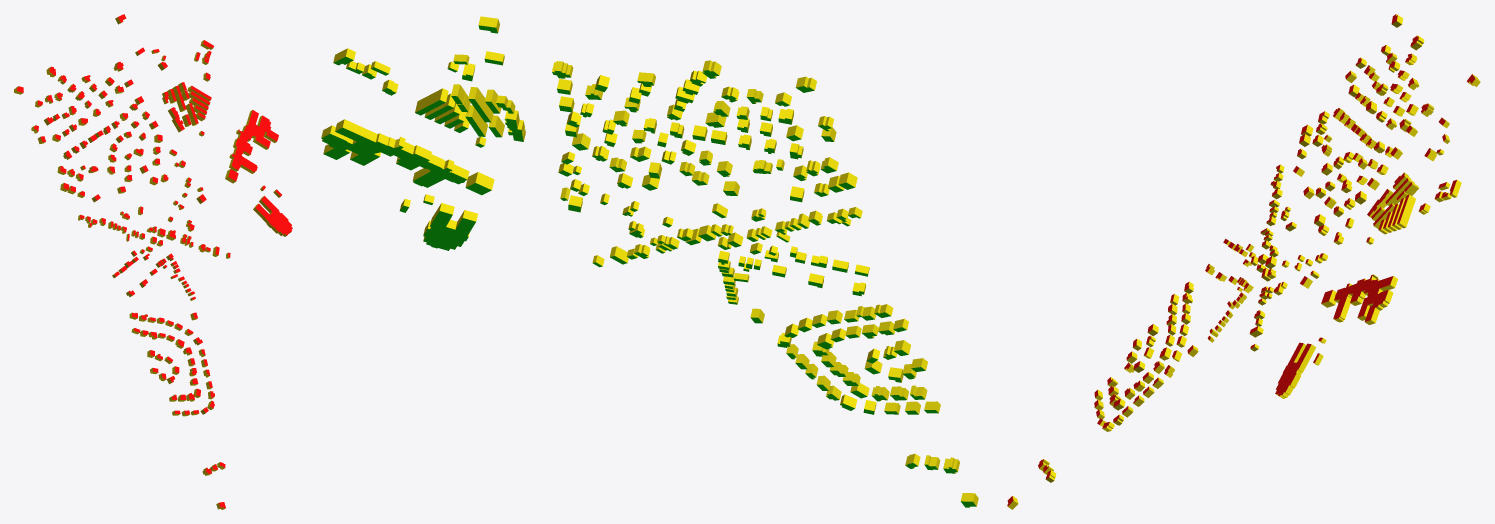
3 views of the same model, side by side, from view 1: azimuth 30°, elevation 25°; view 2: azimuth 150°, elevation 25°; view 3: azimuth 270°, elevation 25° (orthographic). The views are drawn at different scales.
Visible parts, largest first — view 1: mesh; view 2: mesh; view 3: mesh.
Boxes of the visible parts, bbox=[...] form: mesh: bbox=[14, 14, 292, 509]; mesh: bbox=[321, 16, 978, 507]; mesh: bbox=[1007, 14, 1480, 509].
Size of the model in its own units: 836 by 1107 by 992.
